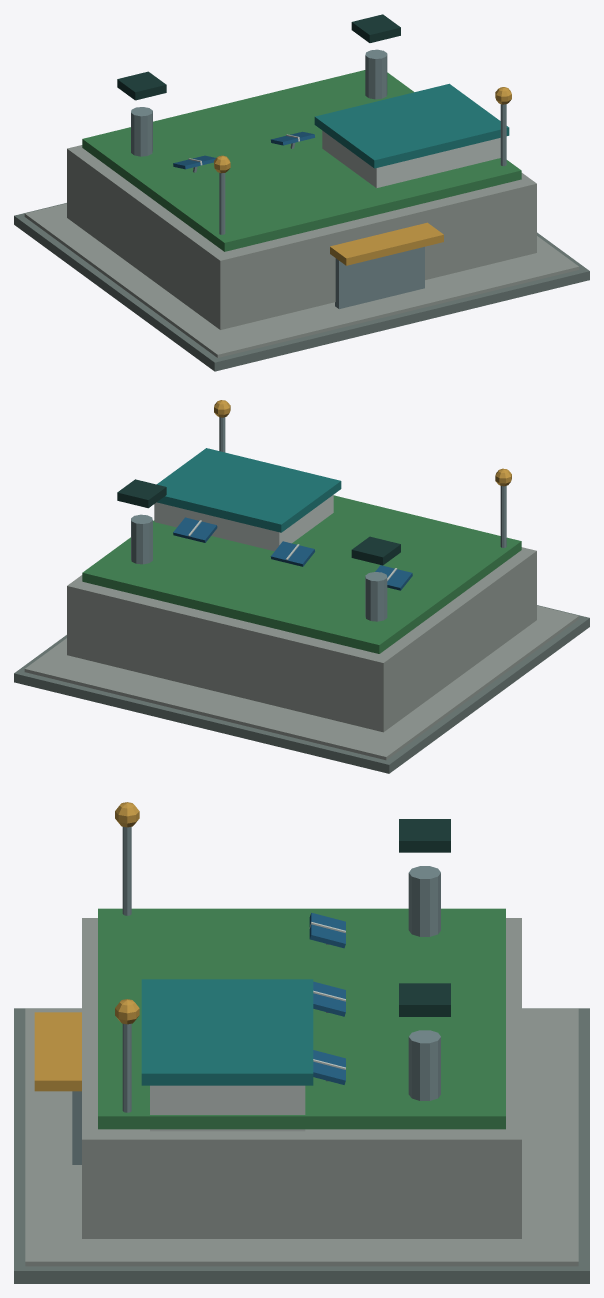
Rendered from shelter_lv4.glb.
3 renders of one model, top to bottom at view 1: azimuth 30°, elevation 25°; view 2: azimuth 150°, elevation 25°; view 3: azimuth 270°, elevation 25°, orthographic. The views are drawn at different scales.
Visible parts, largest first — view 1: rough, metallic; view 2: rough, metallic; view 3: rough, metallic.
Part boxes in pixels (x1,y1,x2,y2): rough: (14, 14, 589, 371); metallic: (131, 49, 506, 309); rough: (14, 400, 589, 773); metallic: (131, 417, 506, 621); rough: (14, 802, 589, 1283); metallic: (72, 827, 440, 1164).
Bounding box in the file's own units: 9.6 × 4.28 × 8.9.
